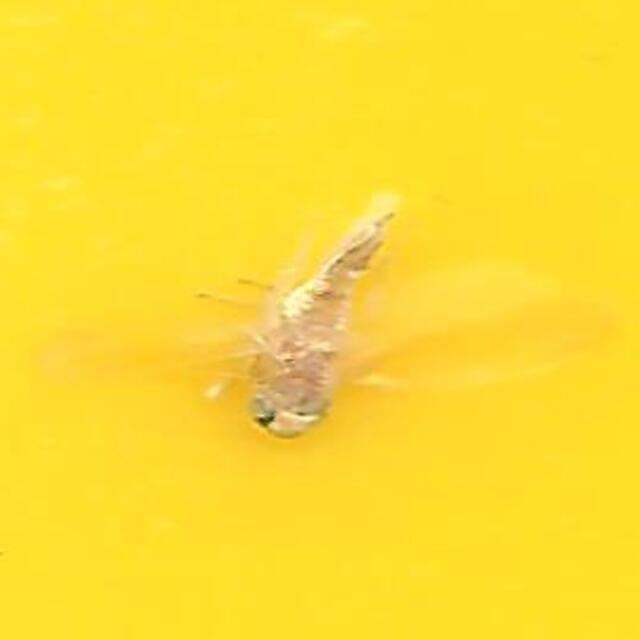Hemiptera: (238, 191, 402, 449)
